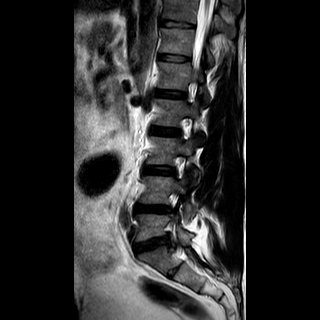LFS0: (173, 112, 197, 148), (178, 75, 202, 109), (165, 150, 190, 182)
